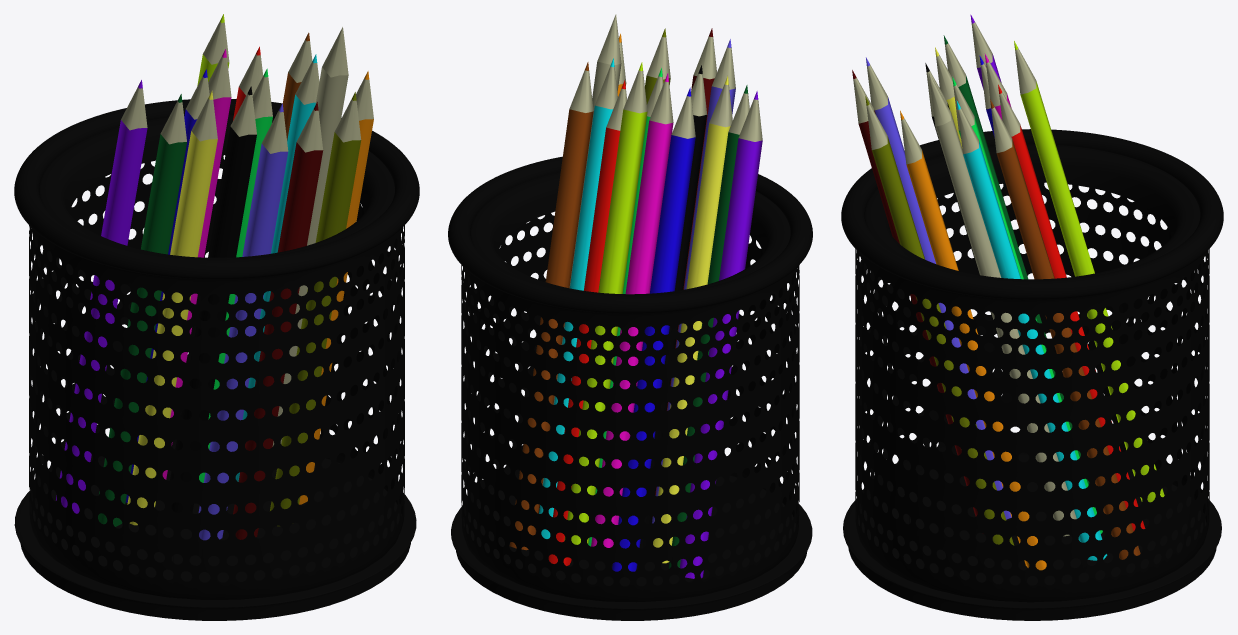
The model's file is pen_holder.glb.
The picture shows the model from 3 angles, left to right: view 1: azimuth 30°, elevation 25°; view 2: azimuth 150°, elevation 25°; view 3: azimuth 270°, elevation 25°; orthographic projection. The views are drawn at different scales.
Visible parts, largest first — view 1: Cylinder_0, Cylinder.001_2, Cubo.022_1, Cubo.037_38, Cubo.009_11, Cubo.015_17, Cubo.003_5, Cubo.046_47, Cubo.043_44, Cubo.006_8, Cubo.018_20, Cubo.028_29 (+20 smaller); view 2: Cylinder_0, Cylinder.001_2, Cubo.034_35, Cubo.040_41, Cubo.028_29, Cubo.021_23, Cubo.037_38, Cubo.009_11, Cubo.018_20, Cubo.025_26, Cubo.015_17, Cubo.022_1 (+16 smaller); view 3: Cylinder_0, Cylinder.001_2, Cubo.034_35, Cubo.006_8, Cubo.040_41, Cubo.018_20, Cubo.031_32, Cubo.043_44, Cubo.003_5, Cubo.025_26, Cubo.046_47, Cubo.015_17 (+9 smaller).
Boxes of the visible parts, x1,y1,x2,y2 form: Cylinder_0: (14, 99, 419, 599); Cylinder.001_2: (14, 445, 416, 620); Cubo.022_1: (170, 86, 256, 512); Cubo.037_38: (56, 80, 147, 513); Cubo.009_11: (127, 91, 217, 525); Cubo.015_17: (98, 94, 186, 526); Cubo.003_5: (198, 103, 288, 540); Cubo.046_47: (233, 102, 323, 539); Cubo.043_44: (270, 92, 361, 526); Cubo.006_8: (272, 27, 348, 446); Cubo.018_20: (235, 54, 317, 481); Cubo.028_29: (162, 49, 231, 479); Cylinder_0: (448, 156, 812, 602); Cylinder.001_2: (451, 475, 812, 620); Cubo.034_35: (564, 62, 647, 544); Cubo.040_41: (509, 62, 593, 550); Cubo.028_29: (591, 73, 673, 547); Cubo.021_23: (612, 87, 695, 571); Cubo.037_38: (679, 91, 762, 578); Cubo.009_11: (653, 76, 730, 563); Cubo.018_20: (539, 58, 614, 538); Cubo.025_26: (548, 80, 625, 565); Cubo.015_17: (669, 85, 748, 568); Cubo.022_1: (639, 65, 706, 548); Cylinder_0: (841, 129, 1223, 602); Cylinder.001_2: (843, 454, 1221, 620); Cubo.034_35: (1014, 41, 1164, 502); Cubo.006_8: (929, 73, 1076, 536); Cubo.040_41: (990, 99, 1140, 559); Cubo.018_20: (956, 100, 1107, 560); Cubo.031_32: (900, 110, 1046, 570); Cubo.043_44: (865, 96, 1014, 545); Cubo.003_5: (866, 57, 1011, 519); Cubo.025_26: (998, 84, 1145, 530); Cubo.046_47: (852, 70, 983, 533); Cubo.015_17: (943, 35, 1089, 484).
Bounding box in the file's own units: 0.233 × 0.3397 × 0.233.
